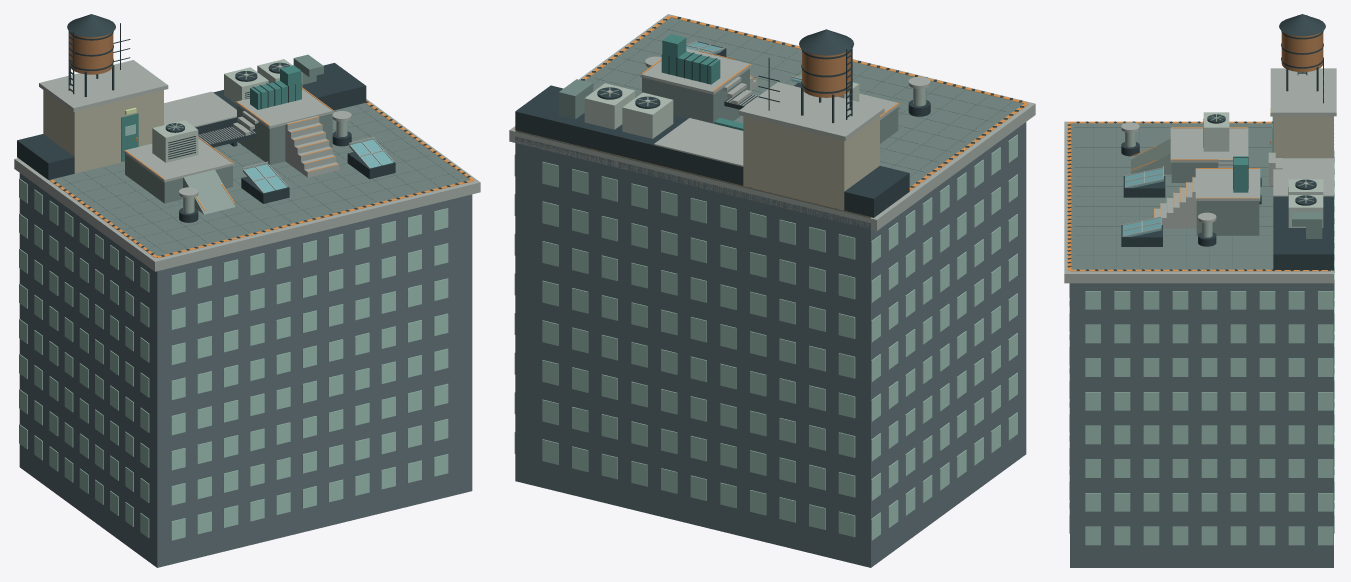
Rendered from skyline.glb.
3 views of the same model, side by side, from view 1: azimuth 30°, elevation 25°; view 2: azimuth 150°, elevation 25°; view 3: azimuth 270°, elevation 25° (orthographic). The views are drawn at different scales.
Parts seen in each view (by area): view 1: Tower facade, Roof membrane, Oversailing roof slab, Service penthouse, Penthouse roof coping, West roof terrace coping, West rear roof shoulder, Rear plinth top, East mechanical terrace, East mechanical terrace coping, West roof terrace, Wood water tank (+10 smaller); view 2: Tower facade, Roof membrane, Service penthouse, Oversailing roof slab, Penthouse roof coping, HVAC housing (×2), Raised service deck, Rear plinth top, East mechanical terrace, West rear roof shoulder, Wood water tank, Connecting rear service plinth (+6 smaller); view 3: Tower facade, Roof membrane, Oversailing roof slab, Penthouse roof coping, Service penthouse, West roof terrace coping, East mechanical terrace, East mechanical terrace coping, East rear roof shoulder, Rear plinth top, Flush edge warning (×3), Raised service deck (+9 smaller).
Boxes of the visible parts, left/top/right/bottom form: Tower facade: left=19, top=173, right=472, bottom=567; Roof membrane: left=52, top=103, right=469, bottom=257; Oversailing roof slab: left=14, top=99, right=480, bottom=271; Service penthouse: left=43, top=90, right=163, bottom=173; Penthouse roof coping: left=39, top=60, right=168, bottom=111; West roof terrace coping: left=123, top=138, right=234, bottom=182; West rear roof shoulder: left=17, top=134, right=74, bottom=179; Rear plinth top: left=164, top=91, right=236, bottom=127; East mechanical terrace: left=237, top=105, right=332, bottom=164; East mechanical terrace coping: left=235, top=89, right=333, bottom=128; West roof terrace: left=125, top=154, right=232, bottom=203; Wood water tank: left=69, top=33, right=113, bottom=74; Tower facade: left=515, top=122, right=1026, bottom=567; Roof membrane: left=515, top=17, right=1023, bottom=218; Service penthouse: left=743, top=116, right=879, bottom=210; Oversailing roof slab: left=509, top=14, right=1035, bottom=230; Penthouse roof coping: left=738, top=82, right=884, bottom=140; HVAC housing (×2): left=584, top=83, right=673, bottom=138; Raised service deck: left=547, top=111, right=687, bottom=163; Rear plinth top: left=654, top=118, right=743, bottom=166; East mechanical terrace: left=642, top=68, right=749, bottom=123; West rear roof shoulder: left=844, top=166, right=909, bottom=217; Wood water tank: left=802, top=51, right=851, bottom=97; Connecting rear service plinth: left=654, top=145, right=743, bottom=185; Tower facade: left=1070, top=283, right=1333, bottom=567; Roof membrane: left=1071, top=123, right=1333, bottom=270; Oversailing roof slab: left=1064, top=121, right=1333, bottom=283; Penthouse roof coping: left=1270, top=68, right=1336, bottom=116; Service penthouse: left=1273, top=116, right=1333, bottom=158; West roof terrace coping: left=1170, top=127, right=1248, bottom=162; East mechanical terrace: left=1196, top=201, right=1259, bottom=235; East mechanical terrace coping: left=1195, top=168, right=1260, bottom=200; East rear roof shoulder: left=1273, top=241, right=1333, bottom=270; Rear plinth top: left=1273, top=158, right=1333, bottom=196; Flush edge warning (×3): left=1067, top=121, right=1331, bottom=271; Raised service deck: left=1273, top=196, right=1333, bottom=240.
Bounding box in the file's own units: 22.32 × 29.58 × 16.88.
